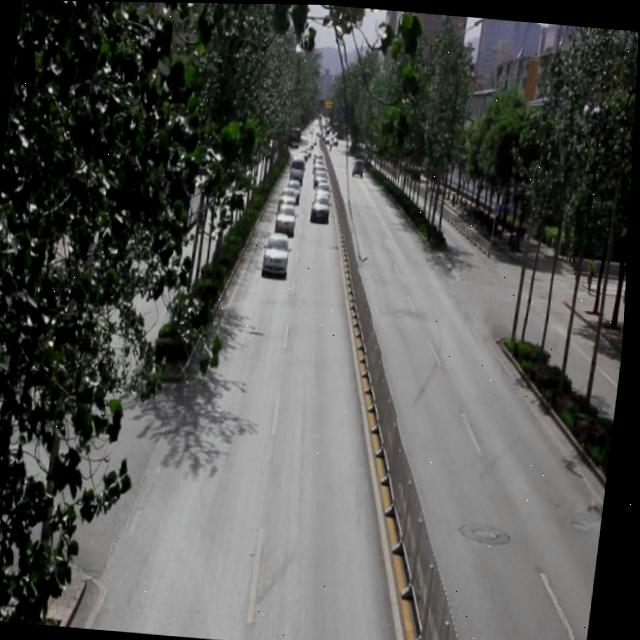car: (264, 229, 294, 276), (276, 200, 298, 234), (310, 192, 334, 223), (279, 185, 299, 211)
